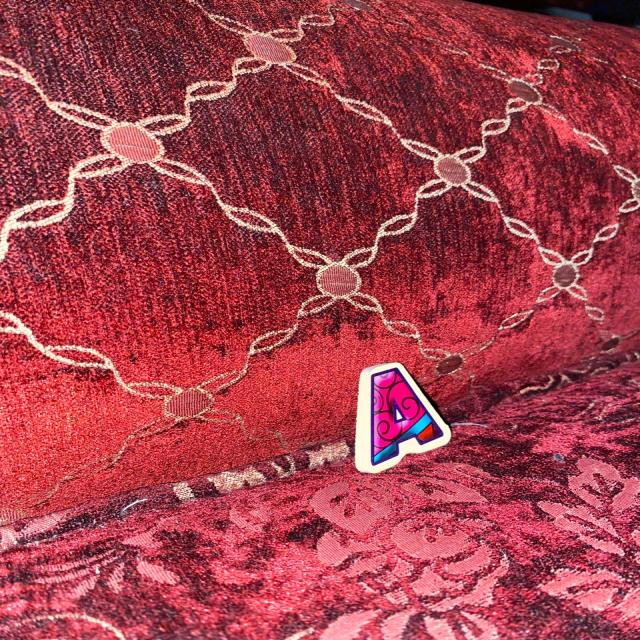A: (356, 363, 450, 473)
